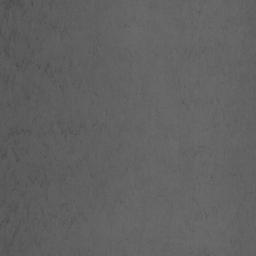Silk spot: (0, 112, 88, 254), (0, 0, 98, 104), (62, 154, 89, 184), (192, 198, 217, 219), (88, 31, 101, 57), (23, 86, 40, 105)
